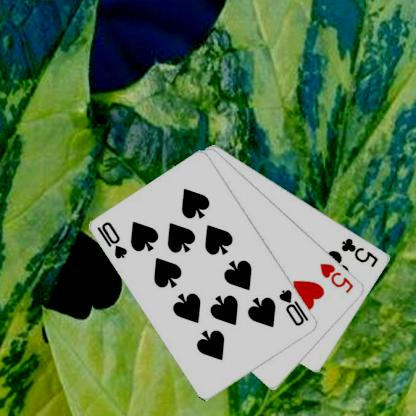10S: (276, 286, 310, 328), (95, 219, 129, 261)
5C: (339, 235, 380, 269)
5H: (317, 260, 356, 295)
